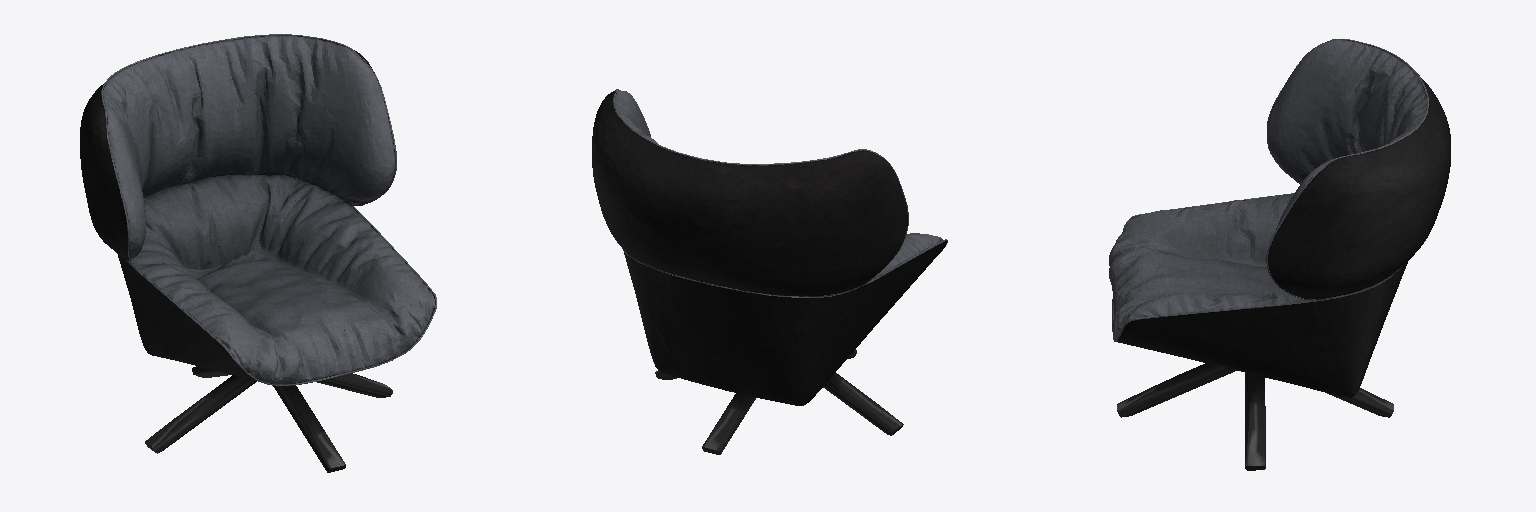
3 views of the same model, side by side, from view 1: azimuth 30°, elevation 25°; view 2: azimuth 150°, elevation 25°; view 3: azimuth 270°, elevation 25° (orthographic).
Visible parts, largest first — view 1: solid_003, solid_002, solid_001; view 2: solid_002, solid_001, solid_003; view 3: solid_002, solid_003, solid_001.
Part boxes in pixels (x1,y1,x2,y2): solid_003: (101, 34, 436, 385); solid_002: (80, 50, 434, 381); solid_001: (145, 366, 392, 472); solid_002: (592, 90, 946, 405); solid_001: (655, 349, 903, 454); solid_003: (613, 89, 947, 297); solid_002: (1115, 73, 1450, 397); solid_003: (1109, 39, 1428, 341); solid_001: (1117, 363, 1393, 470).
Bounding box in the file's own units: 1.24 × 1.34 × 1.31.
1 materials, 1 textured.